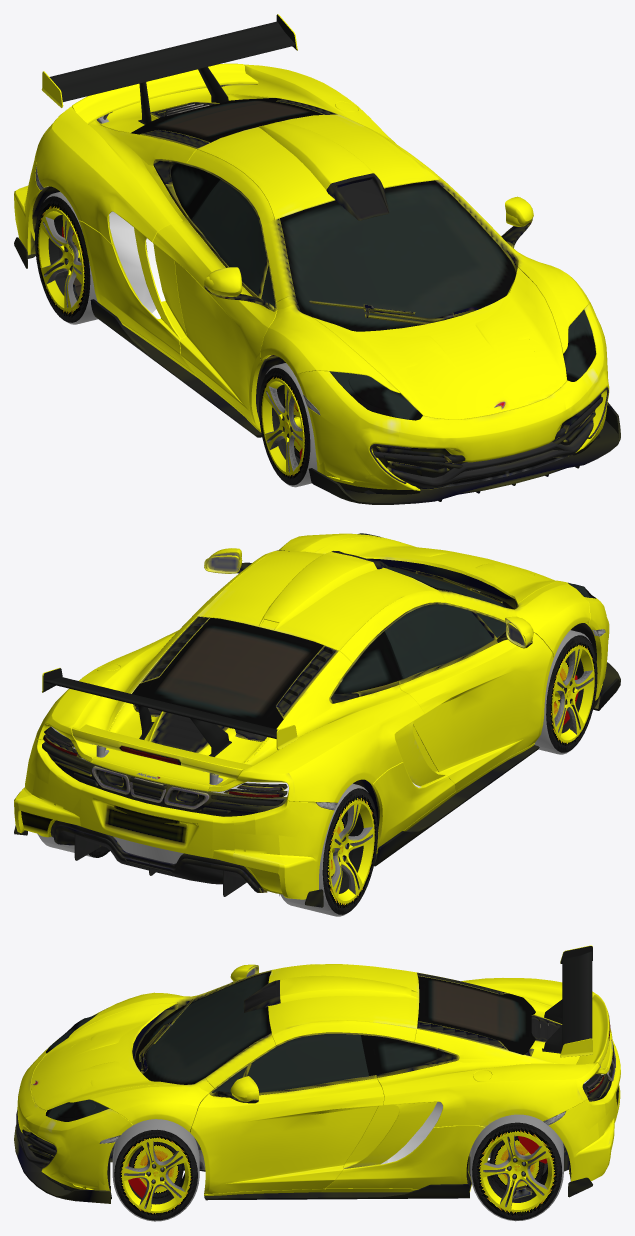
3 renders of one model, top to bottom at view 1: azimuth 30°, elevation 25°; view 2: azimuth 150°, elevation 25°; view 3: azimuth 270°, elevation 25°, orthographic. The views are drawn at different scales.
Parts seen in each view (by area): view 1: x0_main_bo, x0_window_003, x0_l1_bonn, x0_door_fr, x0_l1_bump005, x0_l2_spoi, x0_l1_bump002, x0_l2_bump007, x0_l2_bonn, x0_l2_spoi001, x0_wing_fr, x0_window_005 (+18 smaller); view 2: x0_main_bo, x0_door_fr, x0_window_, x0_l1_bump001, x0_l2_bump001, x0_window_005, x0_l2_spoi, x0_l2_spoi001, x0_wheel_b001, x0_l1_bump004, x0_wing_fr, x0_l1_bonn (+21 smaller); view 3: x0_main_bo, x0_door_fl, x0_window_003, x0_l1_bonn, x0_window_, x0_window_004, x0_l1_bump003, x0_l2_spoi, x0_wing_fl, x0_tyre_bl, x0_tyre_fl, x0_wheel_b (+20 smaller).
Part boxes in pixels (x1,y1,x2,y2): x0_main_bo: [36, 64, 507, 419]; x0_window_003: [280, 180, 516, 331]; x0_l1_bonn: [312, 267, 566, 419]; x0_door_fr: [152, 216, 277, 432]; x0_l1_bump005: [296, 370, 442, 493]; x0_l2_spoi: [41, 14, 297, 124]; x0_l1_bump002: [413, 387, 571, 488]; x0_l2_bump007: [412, 403, 589, 501]; x0_l2_bonn: [324, 280, 566, 419]; x0_l2_spoi001: [259, 122, 389, 220]; x0_wing_fr: [260, 296, 400, 393]; x0_window_005: [191, 179, 275, 307]; x0_main_bo: [36, 550, 508, 854]; x0_door_fr: [397, 611, 553, 794]; x0_window_: [132, 618, 323, 728]; x0_l1_bump001: [71, 785, 222, 884]; x0_l2_bump001: [232, 801, 334, 907]; x0_window_005: [384, 604, 506, 678]; x0_l2_spoi: [42, 668, 297, 756]; x0_l2_spoi001: [259, 551, 388, 630]; x0_wheel_b001: [329, 800, 374, 903]; x0_l1_bump004: [202, 799, 333, 894]; x0_wing_fr: [505, 581, 590, 657]; x0_l1_bonn: [314, 537, 560, 603]; x0_main_bo: [204, 964, 612, 1193]; x0_door_fl: [190, 1063, 384, 1195]; x0_window_003: [134, 971, 271, 1084]; x0_l1_bonn: [31, 1002, 177, 1110]; x0_window_: [417, 976, 535, 1054]; x0_window_004: [212, 1034, 368, 1092]; x0_l1_bump003: [25, 1108, 132, 1199]; x0_l2_spoi: [542, 945, 592, 1057]; x0_wing_fl: [69, 1077, 214, 1131]; x0_tyre_bl: [470, 1114, 563, 1221]; x0_tyre_fl: [112, 1119, 199, 1221]; x0_wheel_b: [480, 1132, 553, 1211].
Bounding box in the file's own units: 1751 × 1154 × 3499.
9 materials, 6 textured.
